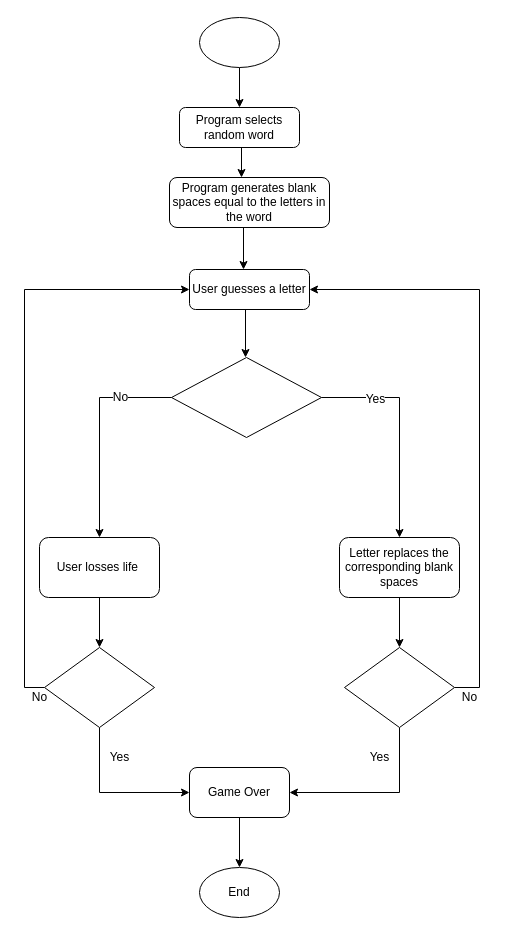
Some shapes in this 505 by 935 pixel diagram are drawn without their labels. Each missing label, with the centre of its shape:
Are all blanks filled?: point 399,687
Are all lives lost?: point 99,687
Is guessed letter in the word?: point 246,397
Start: point 239,42
